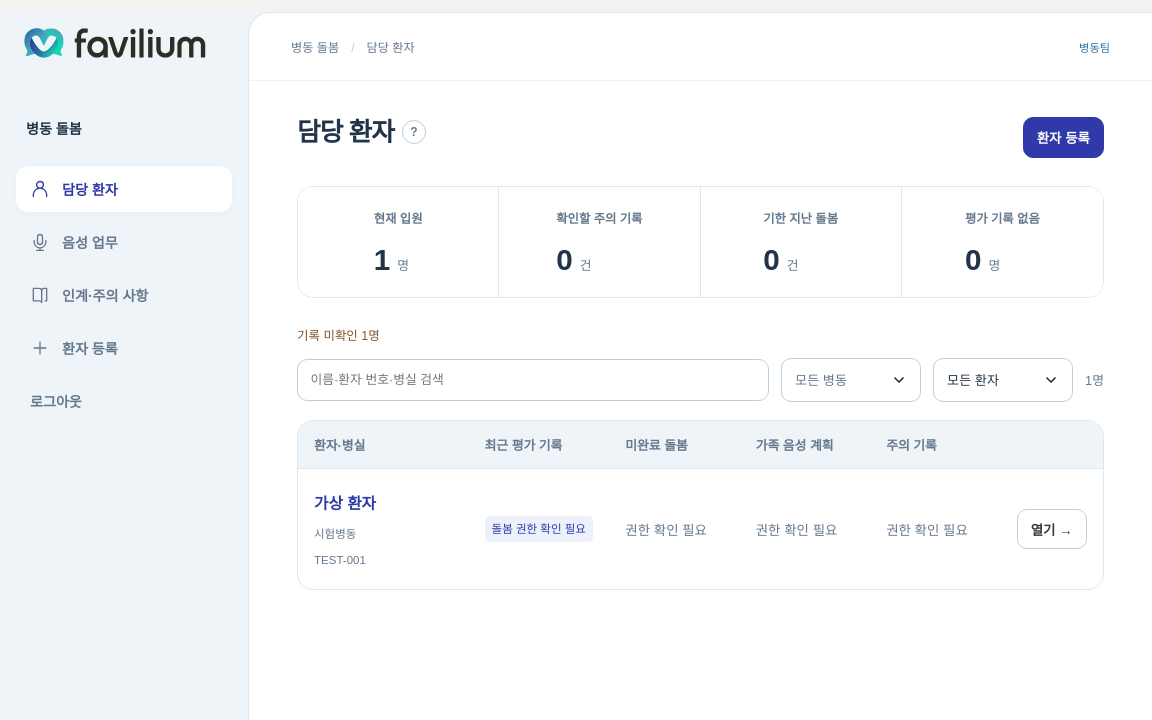
Test: 병원 메뉴에 보호자 링크와 중복 공간 이동을 넣지 않는다
This screenshot has width=1152, height=720.
Expected: the heading "담당 환자" is shown, [297,117,394,148]
Expected: the number of links is 1, [24,28,206,58]
Click the button "음성 업무": [124, 242] box [16,219,232,265]
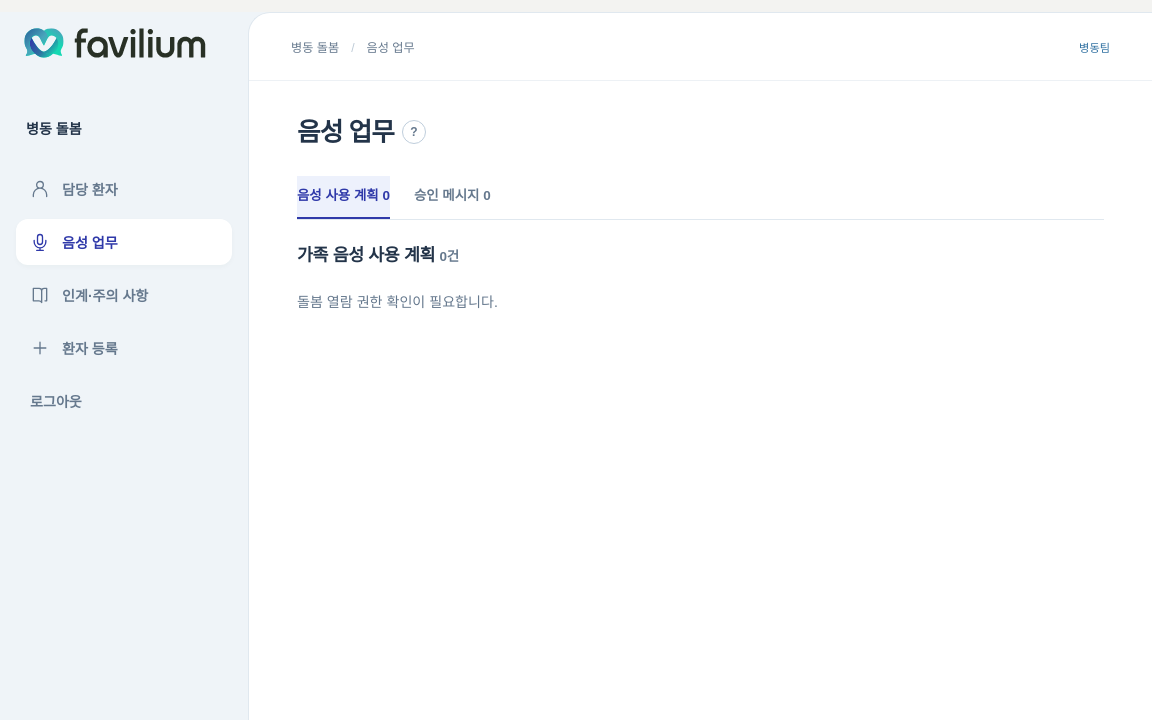
Now the heading "음성 업무" is shown, box [297,117,394,148]
